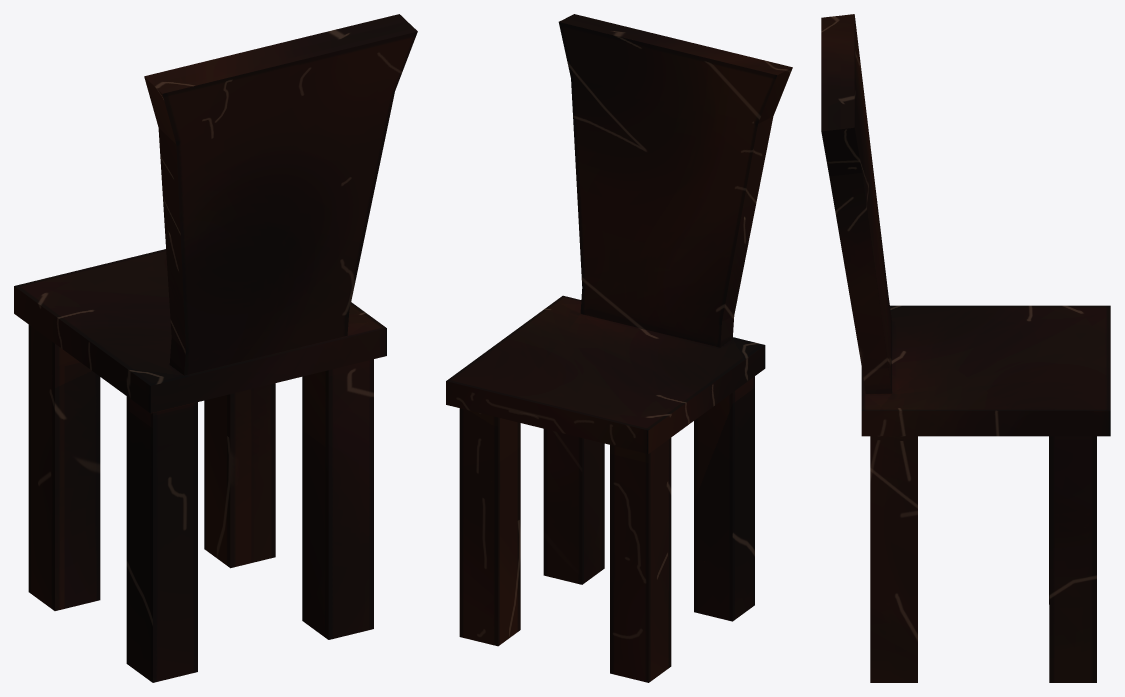
File: chair.fbx
The picture shows the model from 3 angles, left to right: view 1: azimuth 30°, elevation 25°; view 2: azimuth 150°, elevation 25°; view 3: azimuth 270°, elevation 25°; orthographic projection. The views are drawn at different scales.
Visible parts, largest first — view 1: Cube.001; view 2: Cube.001; view 3: Cube.001.
Boxes of the visible parts, bbox=[...] form: Cube.001: bbox=[14, 14, 417, 682]; Cube.001: bbox=[446, 14, 792, 682]; Cube.001: bbox=[821, 14, 1110, 682].
Bounding box in the file's own units: 63.7 × 147 × 68.48.
